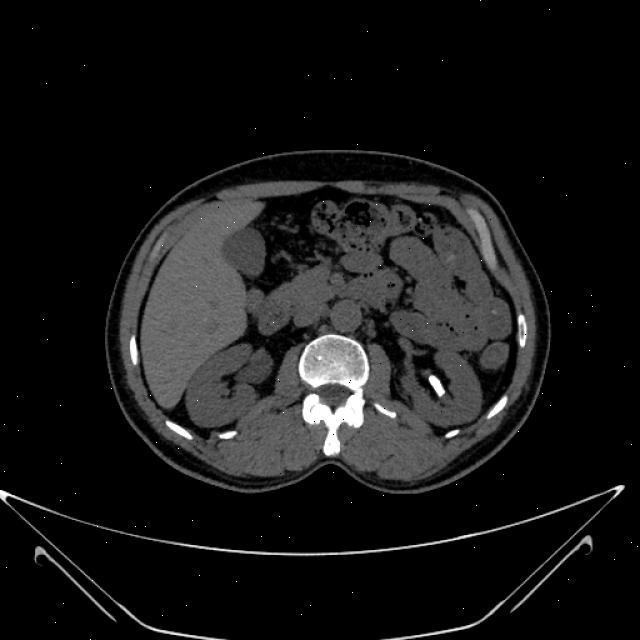kidneystone: (429, 375, 445, 397)
